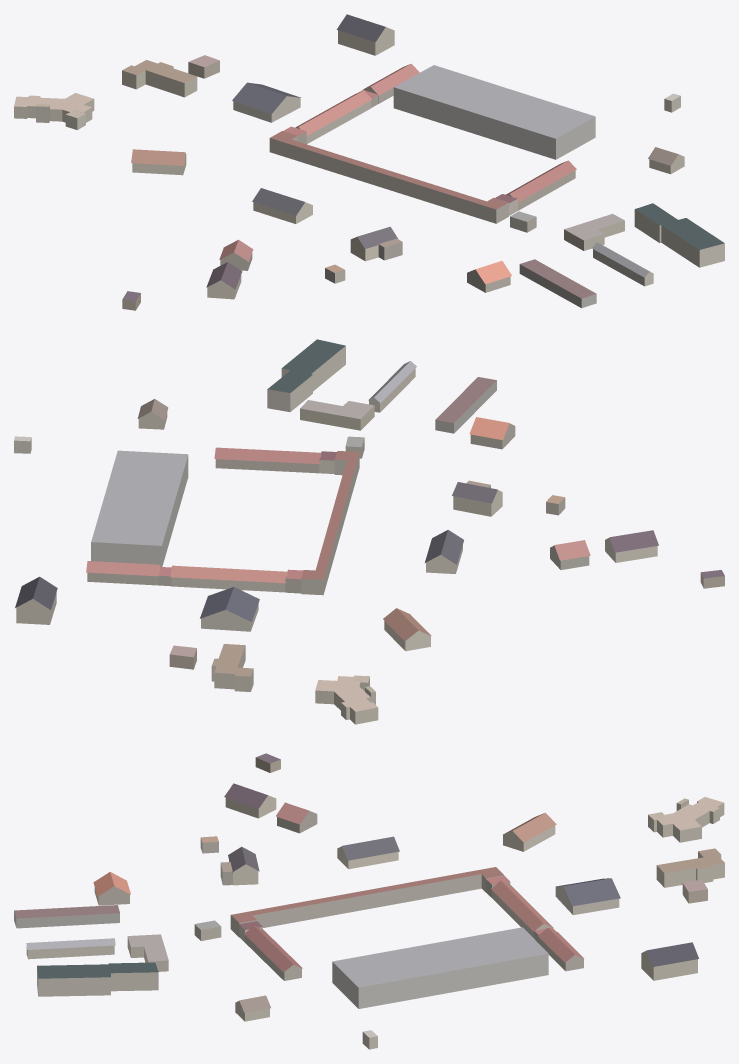
3 renders of one model, top to bottom at view 1: azimuth 30°, elevation 25°; view 2: azimuth 150°, elevation 25°; view 3: azimuth 270°, elevation 25°, orthographic. The views are drawn at different scales.
Visible parts, largest first — view 1: tuile; view 2: tuile; view 3: tuile.
Boxes of the visible parts, x1,y1,x2,y2 form: tuile: [14, 14, 724, 310]; tuile: [14, 339, 724, 724]; tuile: [14, 753, 724, 1049].
Size of the model in its own units: 231 by 12.95 by 229.
